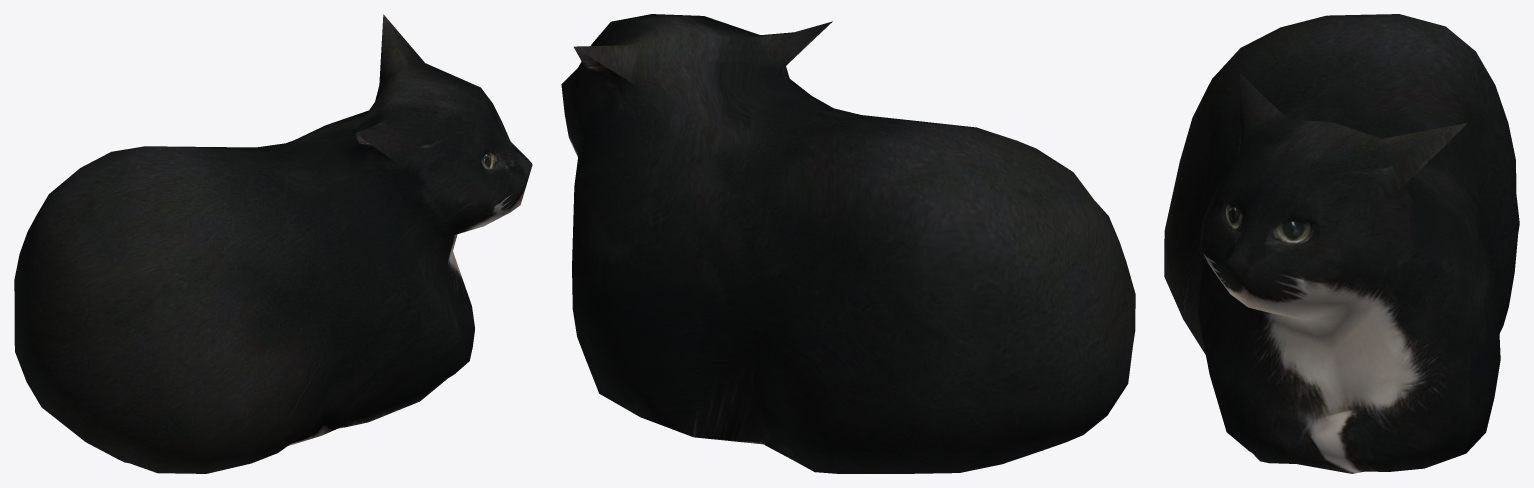
Rendered from cat.fbx.
The picture shows the model from 3 angles, left to right: view 1: azimuth 30°, elevation 25°; view 2: azimuth 150°, elevation 25°; view 3: azimuth 270°, elevation 25°; orthographic projection. The views are drawn at different scales.
Parts seen in each view (by area): view 1: Object_20; view 2: Object_20; view 3: Object_20.
Part boxes in pixels (box(x1,y1,x2,y2)): Object_20: box(14, 14, 532, 473); Object_20: box(561, 14, 1135, 473); Object_20: box(1164, 14, 1519, 473).
Size of the model in its own units: 54.41 by 35.63 by 30.26.
